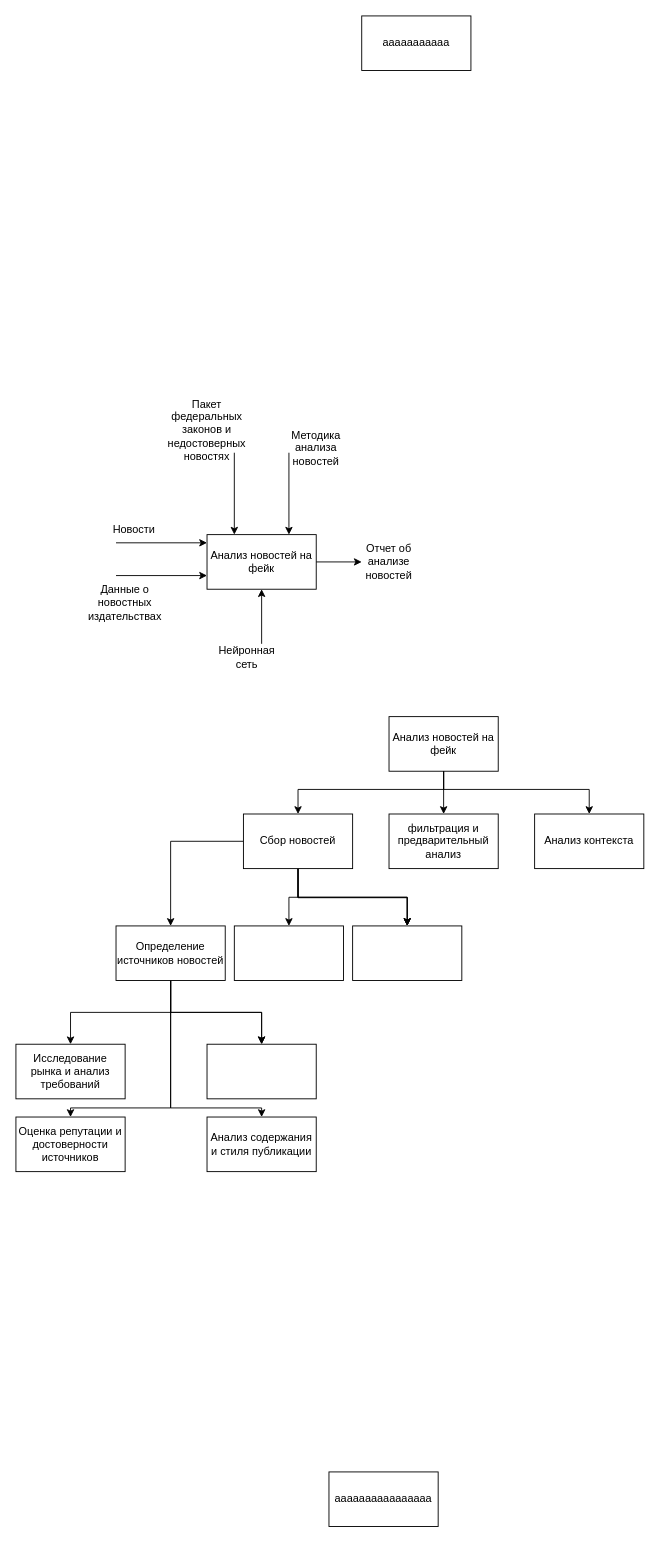
The diagram is 660 pixels wide and 1542 high, and some of its shapes have lost their labels. The shapes that lost their labels are listed below. From the top down, each one's centre as x and y in pixels, then its label:
At [288,953]: "Установка критериев достоверности и разработка системы фильтрации".
At [407,953]: "Выбор инструментов автоматизации сбора".
At [261,1071]: "Создание списка потенциальных источников".
